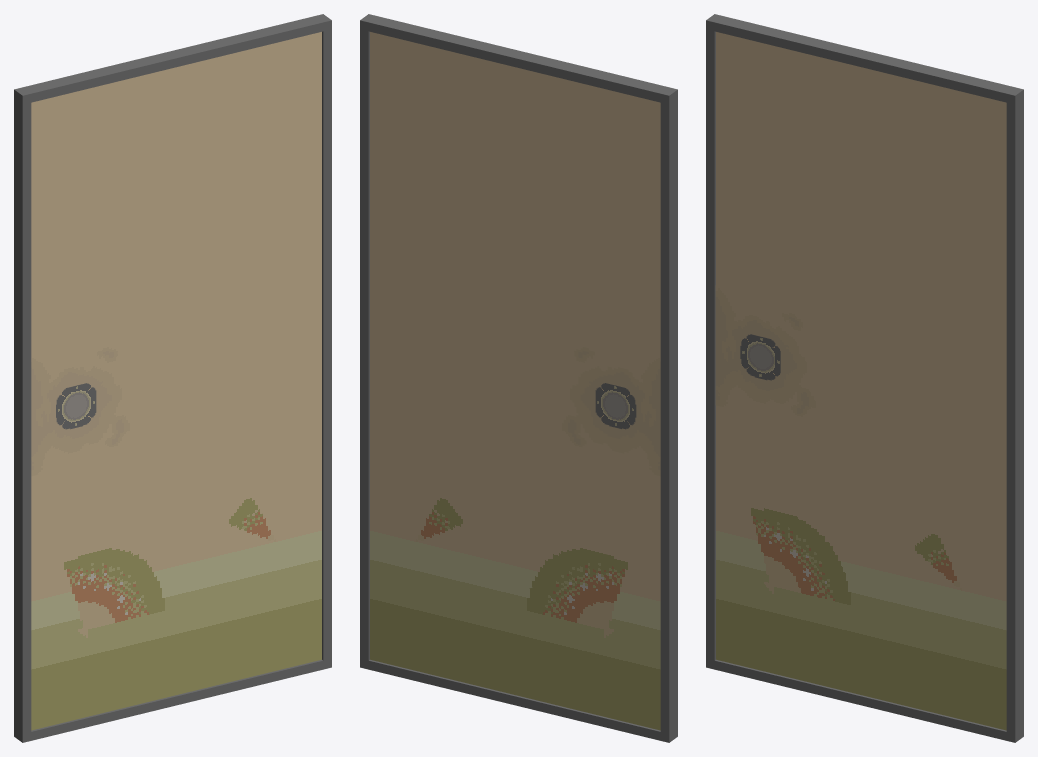
File: 04d4_Sliding_Door.glb
The picture shows the model from 3 angles, left to right: view 1: azimuth 30°, elevation 25°; view 2: azimuth 150°, elevation 25°; view 3: azimuth 330°, elevation 25°; orthographic projection.
Visible parts, largest first — view 1: part_0; view 2: part_0; view 3: part_0.
Boxes of the visible parts, x1=… form: part_0: x1=14, y1=14, x2=331, y2=742; part_0: x1=360, y1=14, x2=677, y2=742; part_0: x1=706, y1=14, x2=1023, y2=742.
Bounding box in the file's own units: 0.9 × 1.8 × 0.0437.
1 material, 1 textured.
